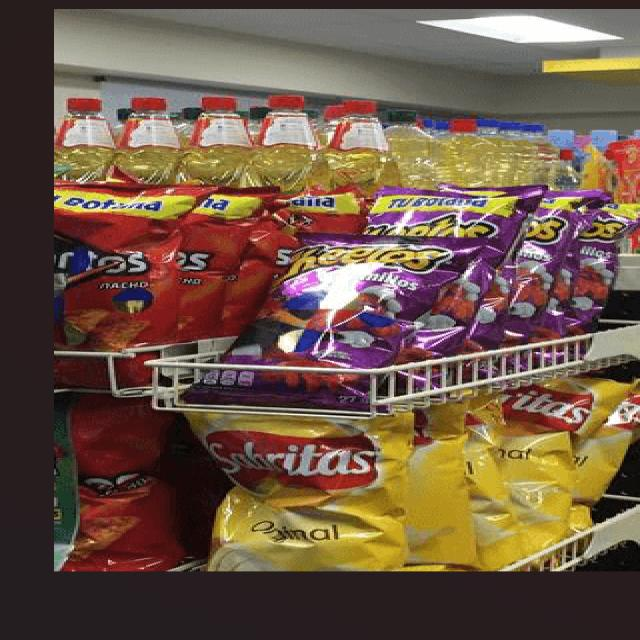sabritasOriginal: (198, 411, 418, 573)
